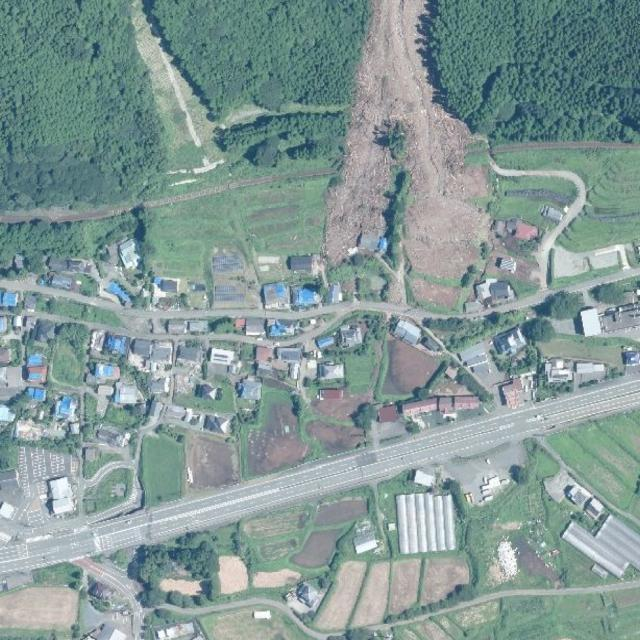landslide: (325, 1, 489, 279)
